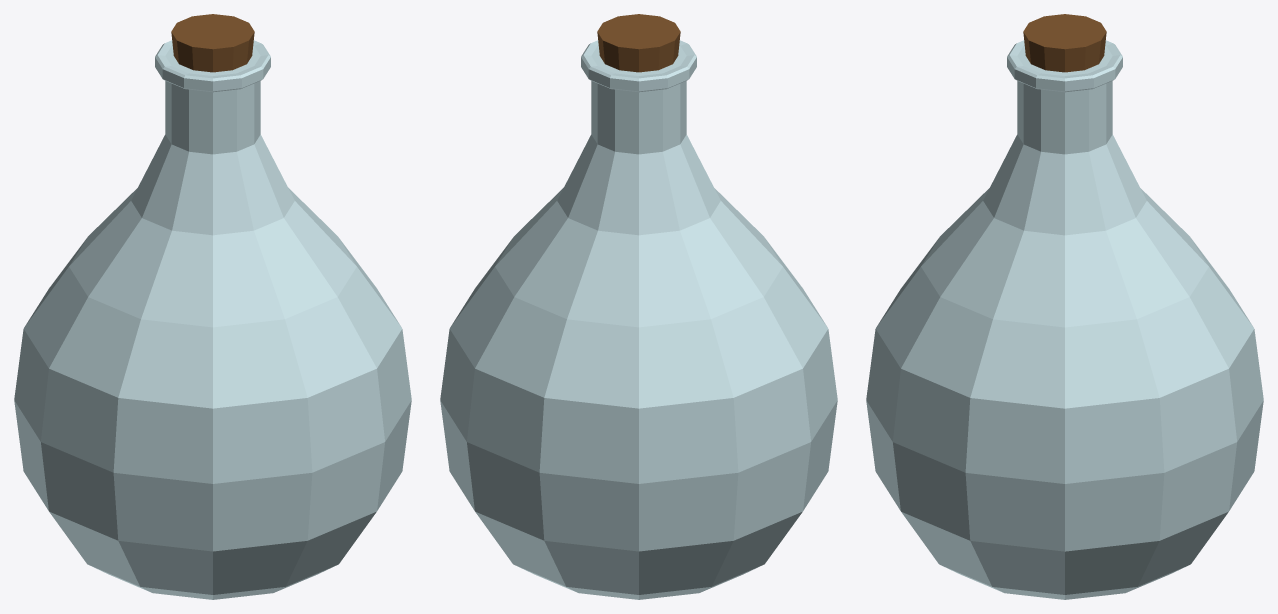
The model's file is FBX_PotionMedium_Health.fbx.
3 views of the same model, side by side, from view 1: azimuth 30°, elevation 25°; view 2: azimuth 150°, elevation 25°; view 3: azimuth 270°, elevation 25° (orthographic).
Visible parts, largest first — view 1: BottleMedium, Cork.001; view 2: BottleMedium, Cork.001; view 3: BottleMedium, Cork.001.
Part boxes in pixels (x1,y1,x2,y2): BottleMedium: [14, 40, 411, 599]; Cork.001: [171, 14, 254, 72]; BottleMedium: [440, 40, 837, 599]; Cork.001: [597, 14, 680, 72]; BottleMedium: [866, 40, 1263, 599]; Cork.001: [1023, 14, 1106, 72].
Size of the model in its own units: 12.5 by 18.84 by 12.5.
